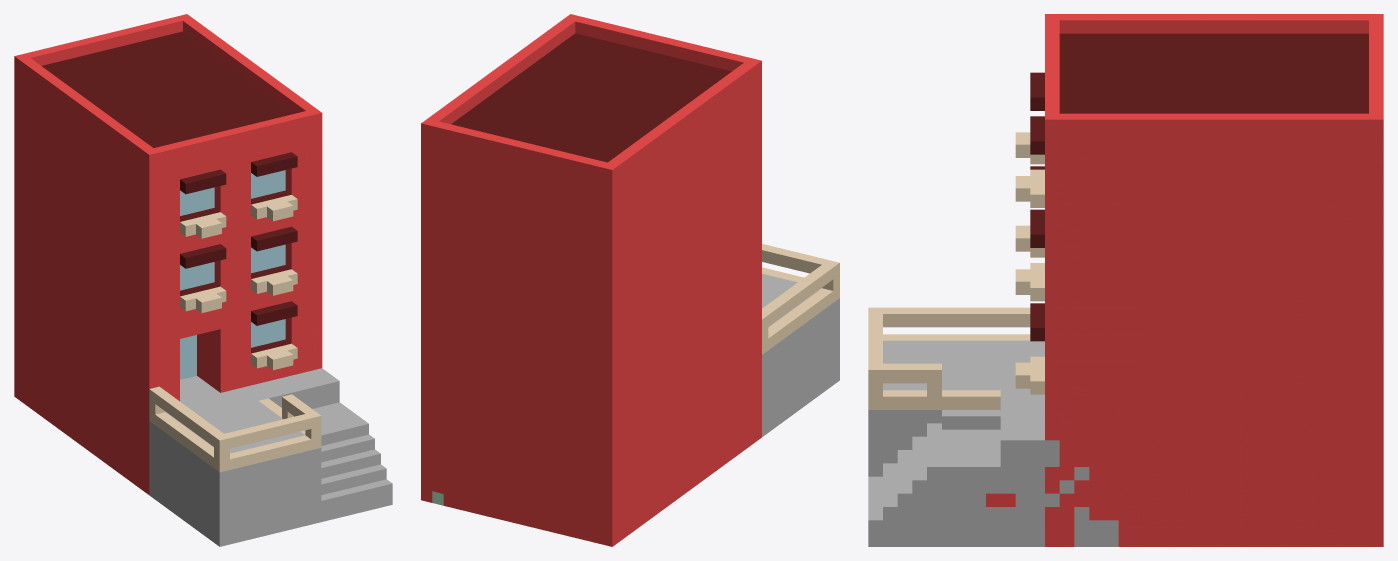
Rendered from Flat_building_Red.obj.
3 views of the same model, side by side, from view 1: azimuth 30°, elevation 25°; view 2: azimuth 150°, elevation 25°; view 3: azimuth 270°, elevation 25° (orthographic). The views are drawn at different scales.
Visible parts, largest first — view 1: Flat_building_Red; view 2: Flat_building_Red; view 3: Flat_building_Red.
Part boxes in pixels (x1,y1,x2,y2): Flat_building_Red: (14,14,392,546); Flat_building_Red: (421,14,839,546); Flat_building_Red: (868,14,1383,546).
Size of the model in its own units: 17 by 32 by 35.
1 material, 1 textured.
